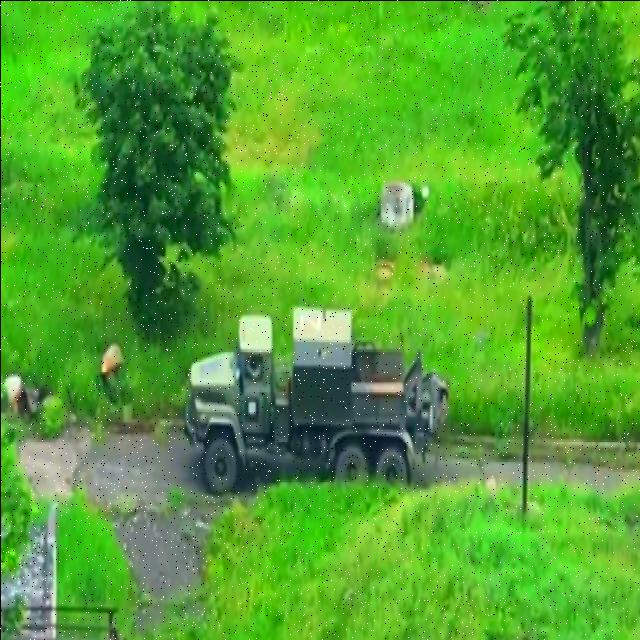TRUCK: (180, 300, 441, 497)
